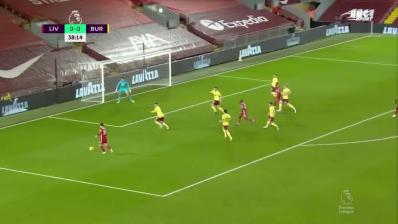football: (88, 146, 95, 153)
player: (96, 122, 116, 156), (114, 76, 137, 105), (149, 102, 171, 132), (217, 108, 235, 144), (207, 86, 227, 116), (236, 98, 256, 127), (277, 84, 295, 113), (264, 102, 280, 132), (269, 72, 281, 101), (272, 82, 282, 108)
